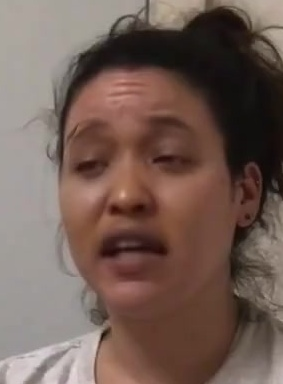eb_f: (62, 111, 206, 178)
